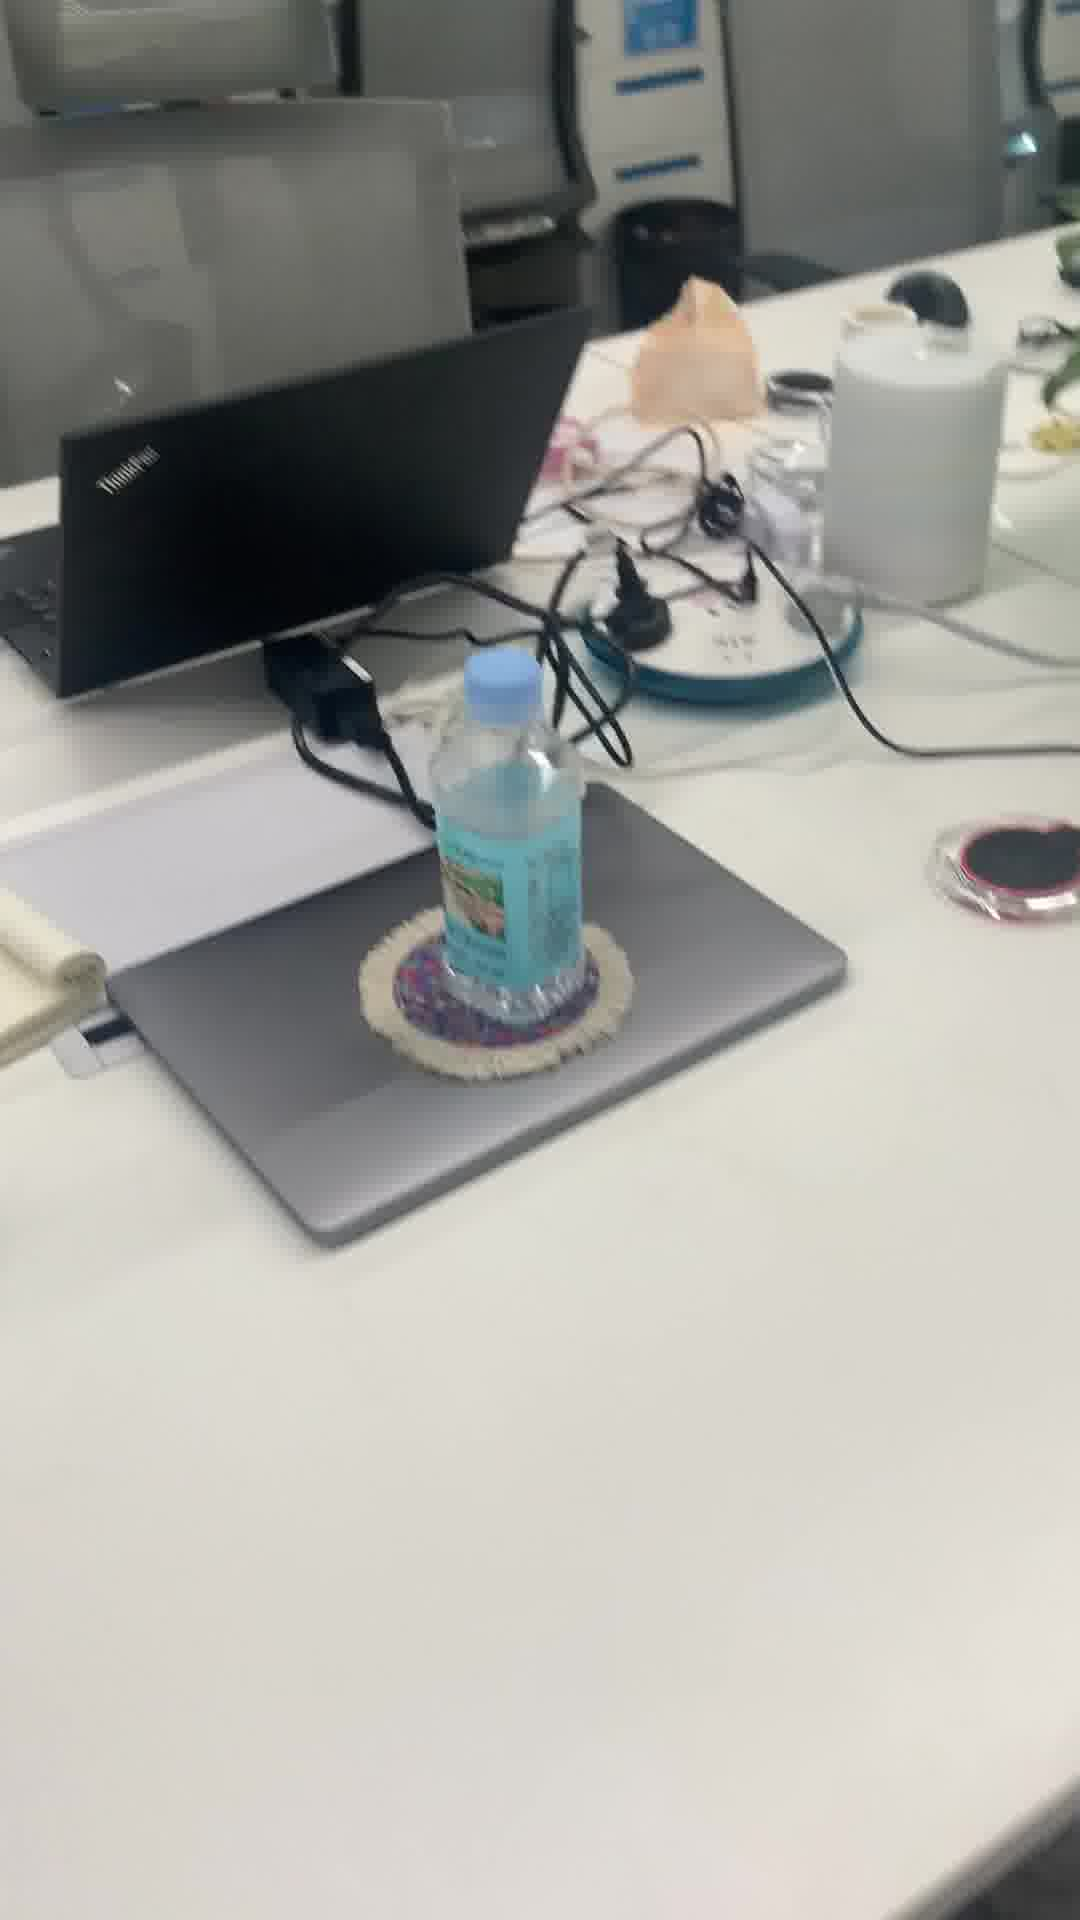水瓶: (422, 638, 597, 1023)
